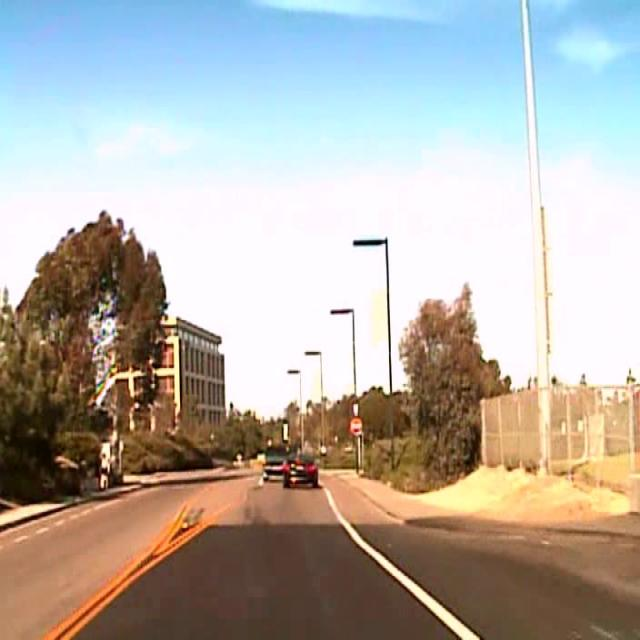stop_sign: (350, 416, 362, 433)
